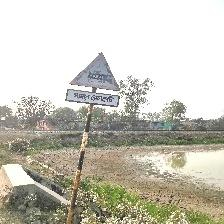Rail-crossing: (67, 53, 121, 106)
